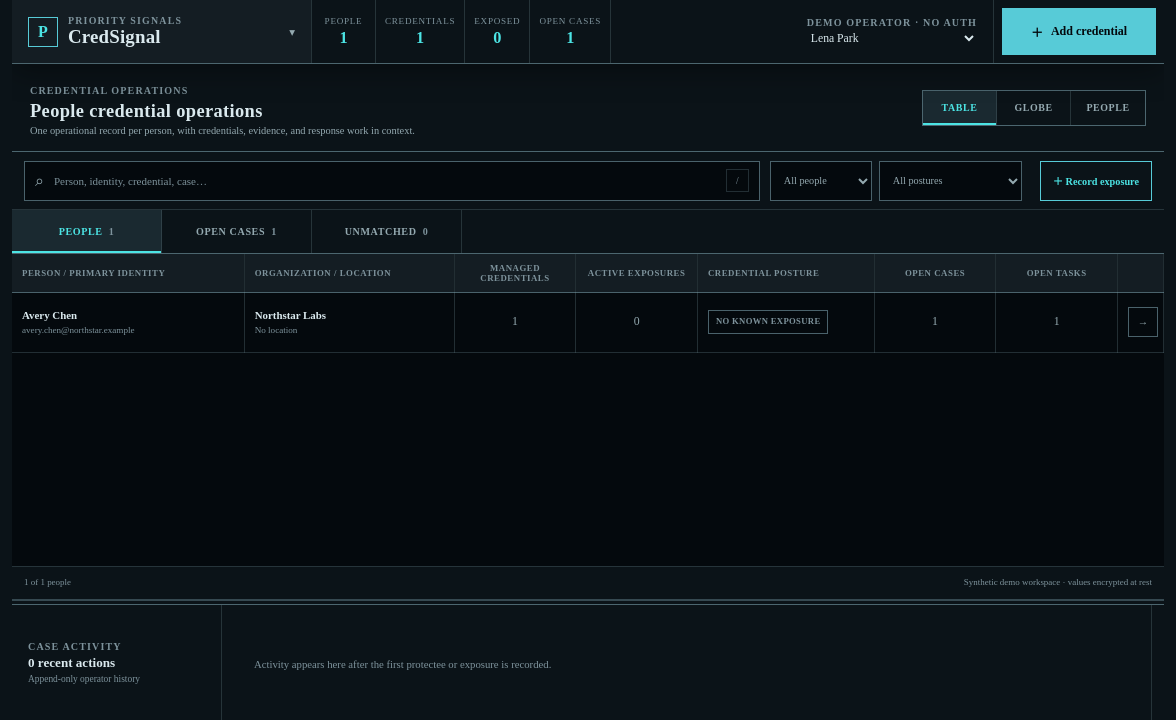
Test: CredSignal inventory workspace › keeps credential creation available from the people workspace
The width and height of the screenshot is (1176, 720).
Click the button "＋ Add credential" at (1079, 32), box [1002,8,1156,55]
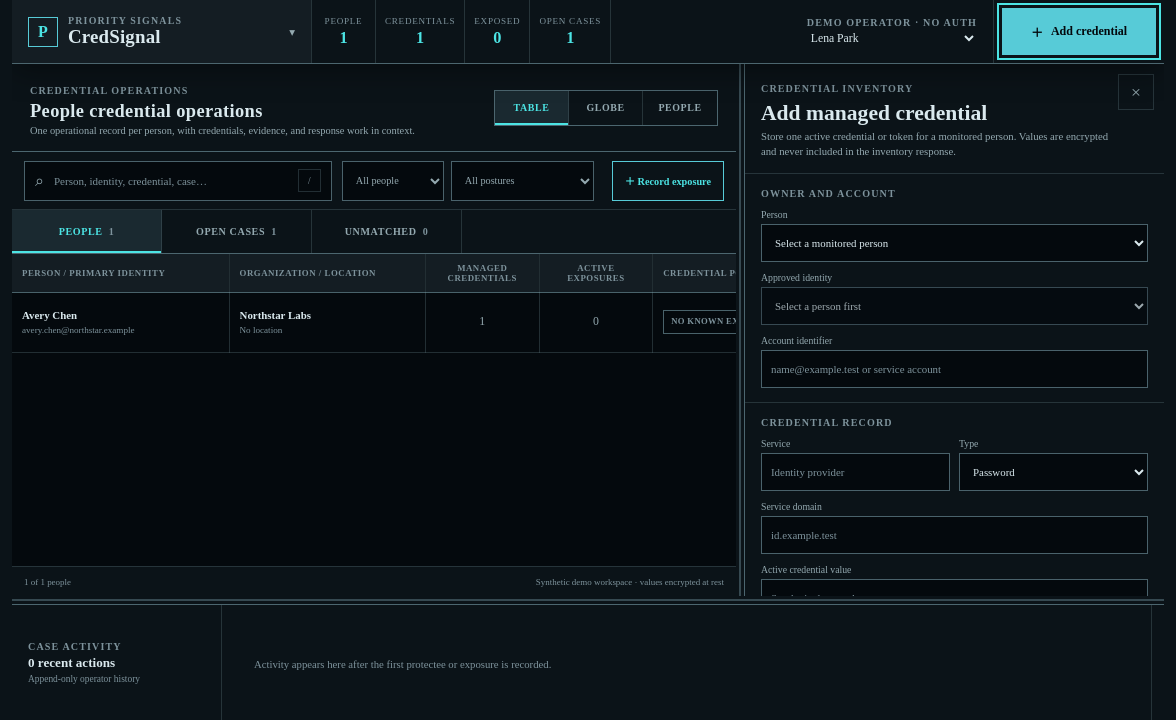
Now the element "Add managed credential" is shown, box [744,64,1164,596]
